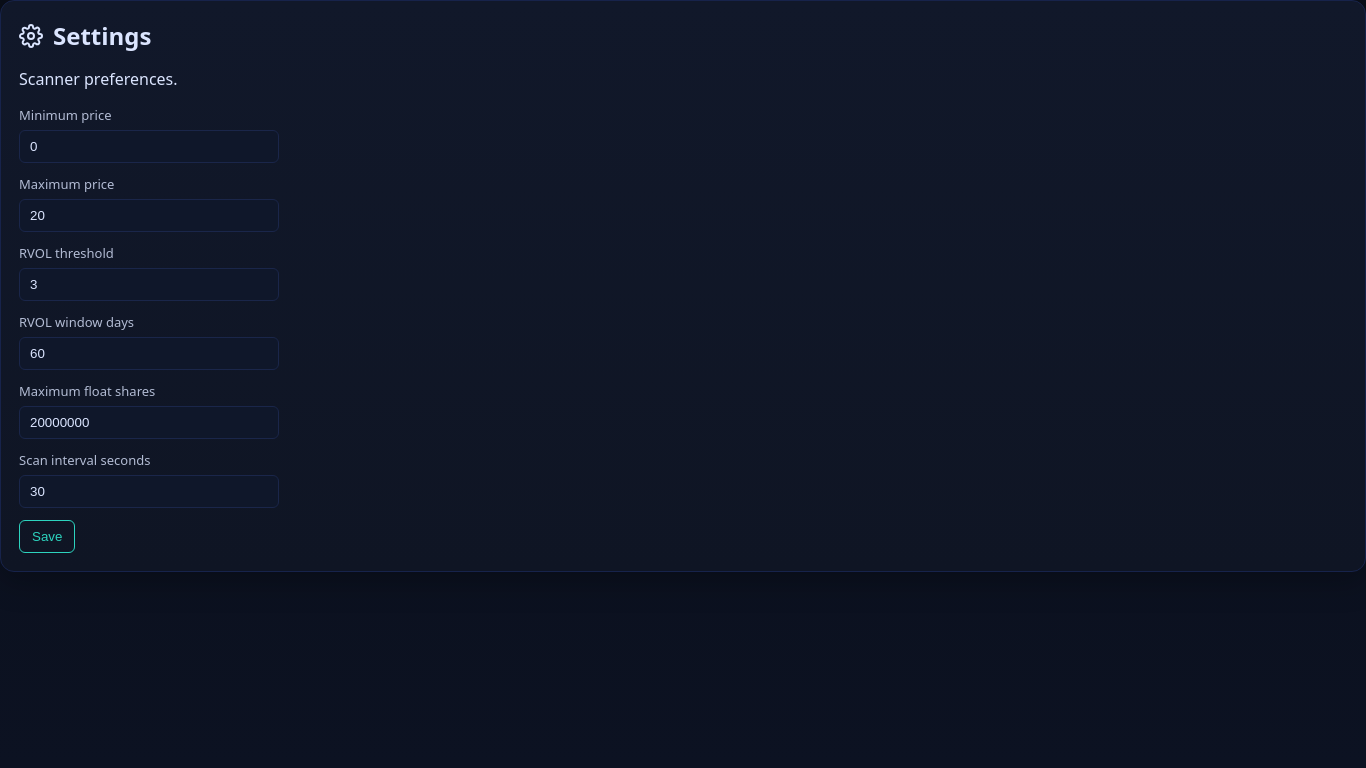
Test: Settings › validates scanner settings before saving
This screenshot has width=1366, height=768.
Replace the text in the number field labelled "Minimum price" with "25" at (149, 146), box 19,130 -> 279,163
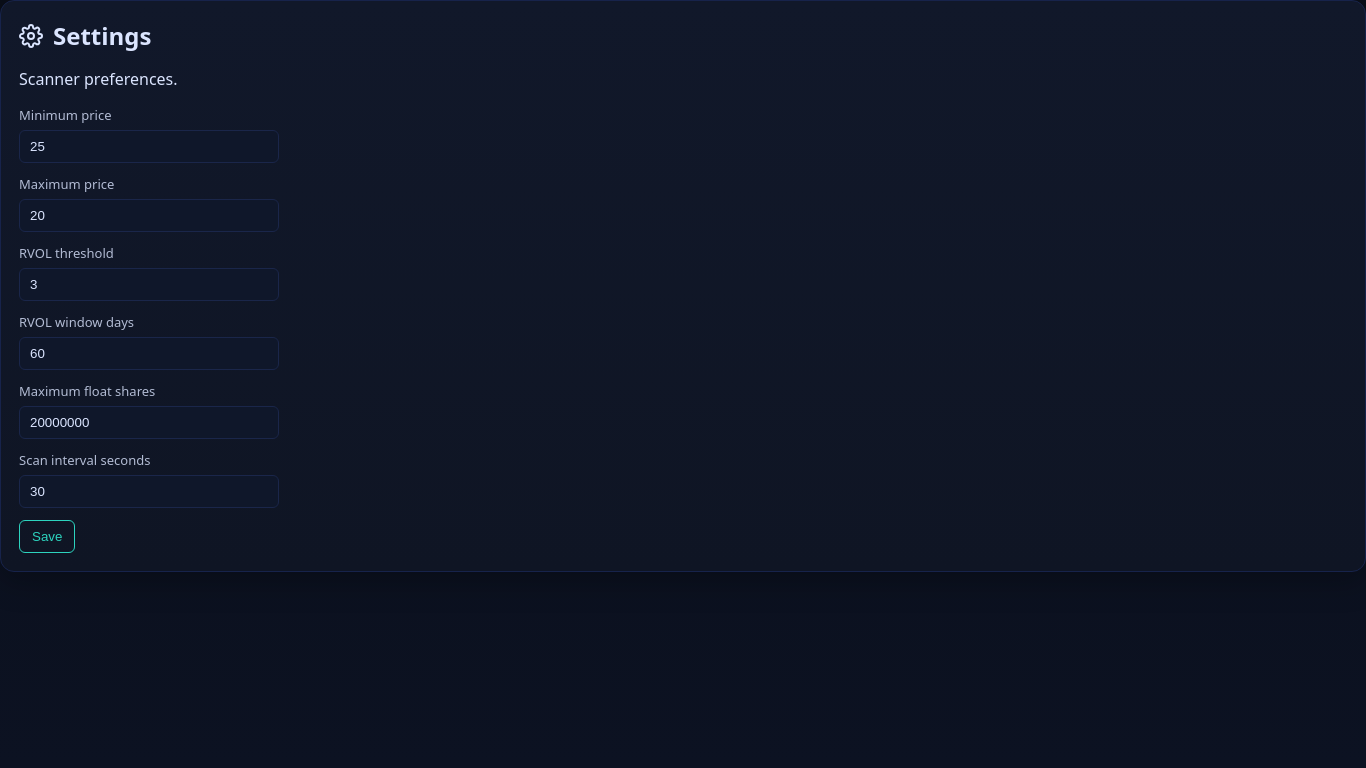
Replace the text in the number field labelled "Maximum price" with "15" at (149, 216), box 19,199 -> 279,232
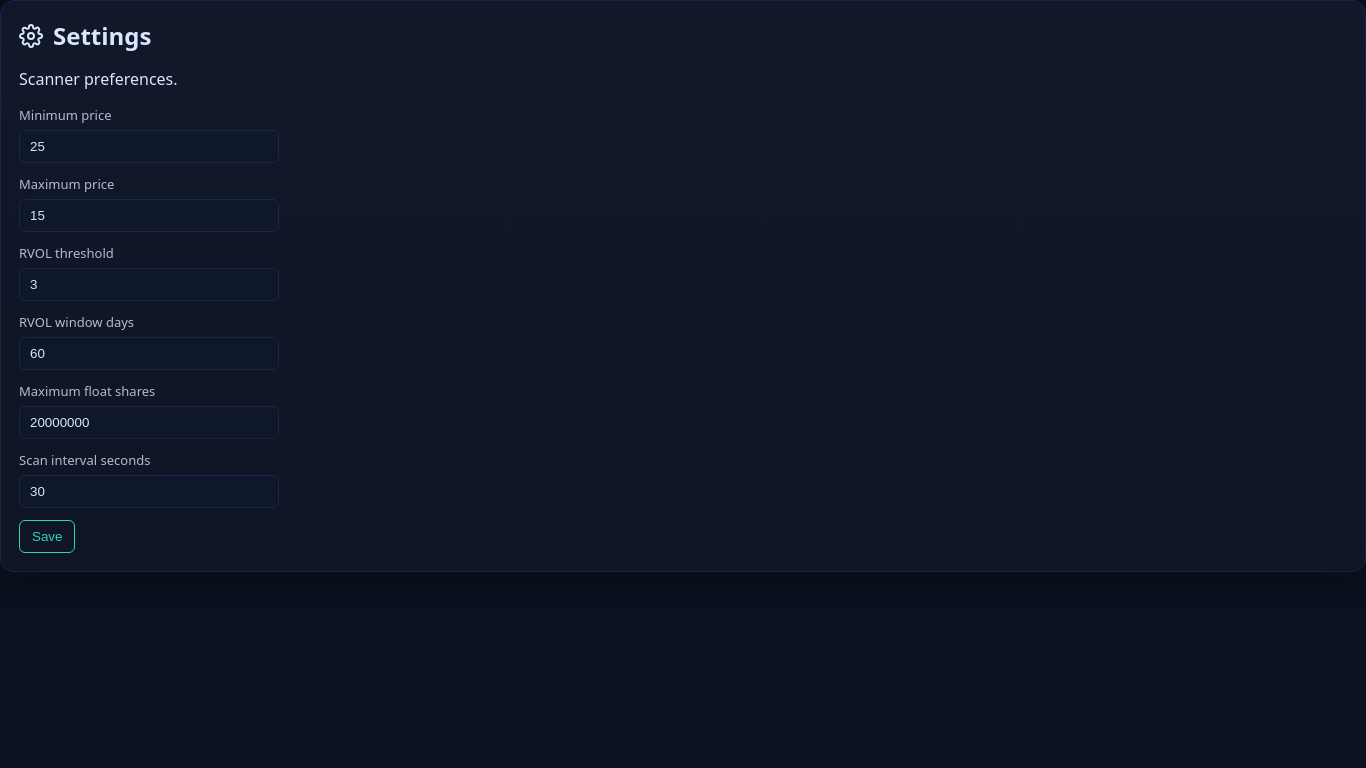
Click the button "Save" at (47, 536), box 19,520 -> 75,553
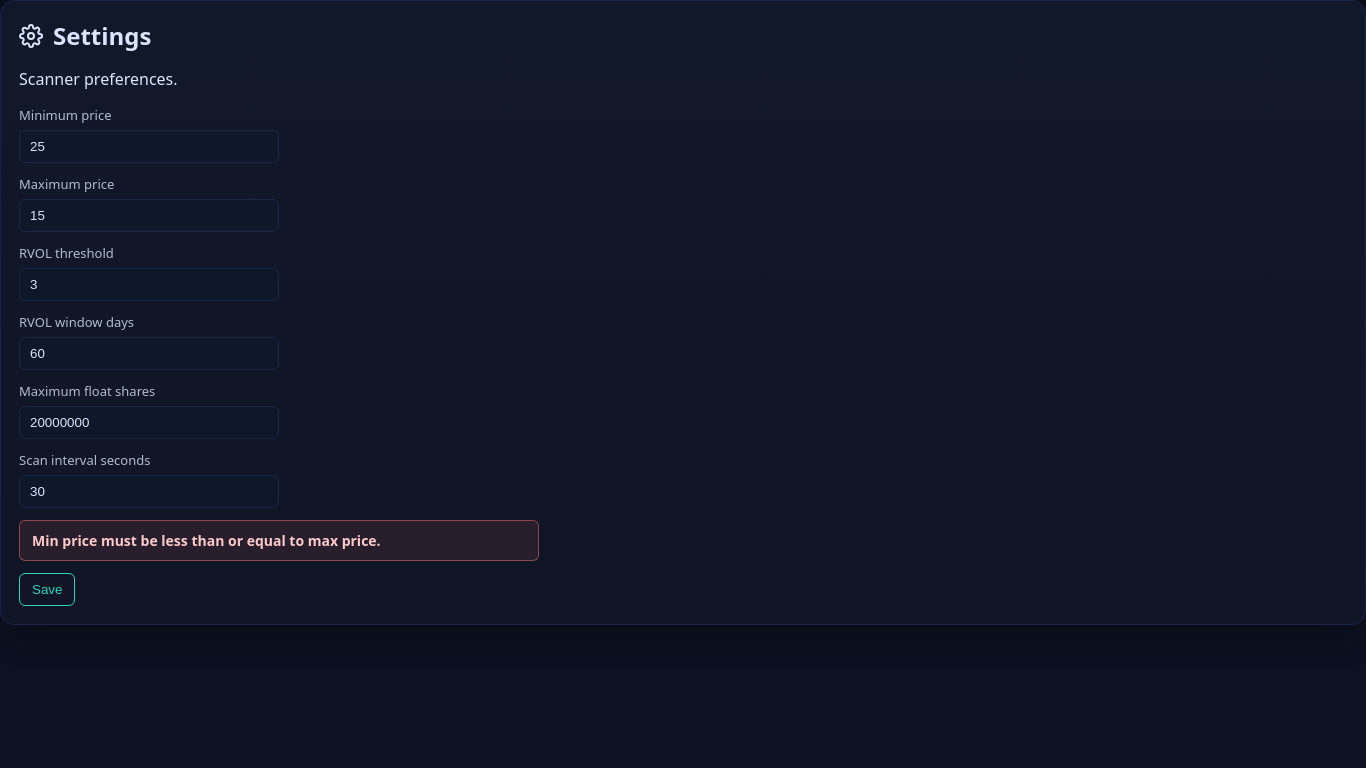
Check: the message reads "Min price must be less than or equal to max price.", box 32,531 -> 381,550
